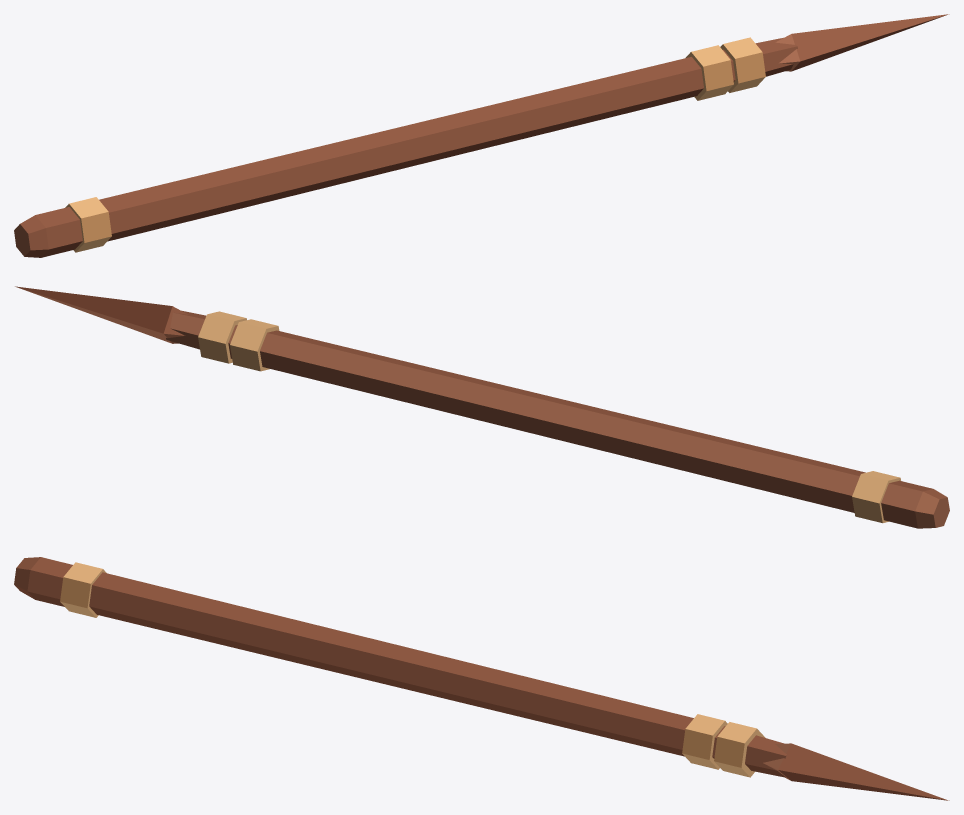
Rendered from Wooden_Spear.glb.
The picture shows the model from 3 angles, top to bottom: view 1: azimuth 30°, elevation 25°; view 2: azimuth 150°, elevation 25°; view 3: azimuth 330°, elevation 25°; orthographic projection.
Visible parts, largest first — view 1: Faceted shaft, Low-poly point, Pale binding.001, Pale binding.002, Pale binding; view 2: Faceted shaft, Low-poly point, Pale binding.001, Pale binding.002, Pale binding; view 3: Faceted shaft, Low-poly point, Pale binding.002, Pale binding.001, Pale binding.
Boxes of the visible parts, left/top/right/bottom form: Faceted shaft: left=14, top=37, right=797, bottom=257; Low-poly point: left=775, top=14, right=949, bottom=71; Pale binding.001: left=685, top=45, right=733, bottom=100; Pale binding.002: left=720, top=37, right=765, bottom=92; Pale binding: left=65, top=197, right=111, bottom=252; Faceted shaft: left=166, top=310, right=949, bottom=528; Low-poly point: left=15, top=286, right=188, bottom=343; Pale binding.001: left=230, top=319, right=279, bottom=371; Pale binding.002: left=198, top=311, right=246, bottom=363; Pale binding: left=852, top=471, right=900, bottom=523; Faceted shaft: left=14, top=557, right=787, bottom=777; Low-poly point: left=763, top=743, right=949, bottom=800; Pale binding.002: left=714, top=722, right=765, bottom=777; Pale binding.001: left=682, top=714, right=727, bottom=769; Pale binding: left=60, top=562, right=106, bottom=617.
Bounding box in the file's own units: 2.33 × 0.1063 × 0.1063.
1 material, 1 textured.
